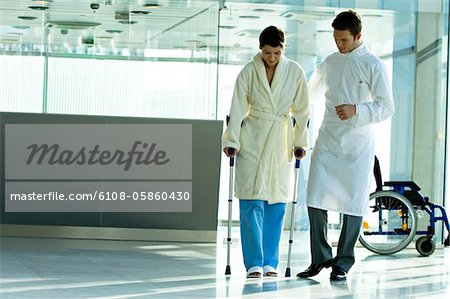crutches: (220, 26, 310, 278)
